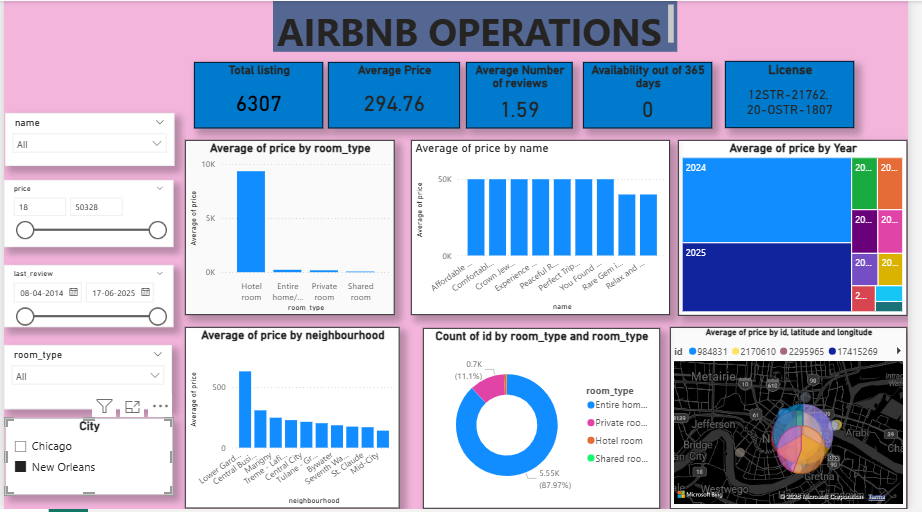

The page's visual inventory and layout, read from the dashboard file:
{"tool":"powerbi","page":{"name":"Page 1","canvas":[1280,720],"ordinal":0},"visuals":[{"type":"slicer","title":"City","fields":{"Values":["Combine table.City"]},"box":[1.4,591,238.1,109.1],"z":0},{"type":"map","fields":{"Y":["Combine table.latitude"],"X":["Combine table.longitude"],"Size":["Avg(Combine table.price)"],"Series":["Combine table.id"]},"box":[944.6,462.2,335.5,257.8],"z":1000},{"type":"slicer","fields":{"Values":["Combine table.name"]},"box":[1.4,158.7,239.5,75.1],"z":2000},{"type":"slicer","fields":{"Values":["Combine table.price"]},"box":[0,253.7,239.5,95],"z":3000},{"type":"card","title":"Total listing","fields":{"Values":["Count(Combine table.id)"]},"box":[269.3,86.4,182.9,93.6],"z":4000},{"type":"card","title":"Average Price ","fields":{"Values":["Avg(Combine table.price)"]},"box":[459.4,86.4,187.2,93.6],"z":5000},{"type":"card","title":"Average Number of reviews","fields":{"Values":["Combine table.Total_num_reviews"]},"box":[655.2,86.4,151.2,93.6],"z":6000},{"type":"clusteredColumnChart","fields":{"Category":["Combine table.neighbourhood"],"Y":["Avg(Combine table.price)"]},"box":[257,461.9,304,257],"z":7000},{"type":"donutChart","fields":{"Y":["Count(Combine table.id)"],"Category":["Combine table.room_type"],"Series":["Combine table.room_type"]},"box":[593.3,463.7,335.5,256.3],"z":8000},{"type":"slicer","fields":{"Values":["Combine table.last_review"]},"box":[0,374.2,239.5,87.9],"z":9000},{"type":"card","title":"Availability out of 365 days","fields":{"Values":["Min(Combine table.availability_365)"]},"box":[820.8,86.4,182.9,93.6],"z":10000},{"type":"slicer","fields":{"Values":["Combine table.room_type"]},"box":[0,487.6,238.1,90.7],"z":11000},{"type":"columnChart","fields":{"Category":["Combine table.room_type"],"Y":["Avg(Combine table.price)"]},"box":[256.7,196.7,296.7,248.3],"z":12000},{"type":"treemap","fields":{"Group":["Combine table.last_review.Variation.Date Hierarchy.Year","Combine table.last_review.Variation.Date Hierarchy.Quarter","Combine table.last_review.Variation.Date Hierarchy.Month","Combine table.last_review.Variation.Date Hierarchy.Day"],"Values":["Avg(Combine table.price)"]},"box":[955.3,197,324.6,249.4],"z":13000},{"type":"card","title":"License","fields":{"Values":["Min(Combine table.license)"]},"box":[1021.7,85,183.3,95],"z":14000},{"type":"textbox","box":[381.7,0,573.3,71.7],"z":16000},{"type":"columnChart","fields":{"Category":["Combine table.name"],"Y":["Avg(Combine table.price)"]},"box":[577.4,197.3,367.2,247.7],"z":16001}]}

Visuals, with their boxes in screenshot pixels (x1, y1, x2, y2), scaled from the page's 1280x720 canvas onto the 922x512 screenshot:
"City" slicer: l=1, t=420, r=173, b=498
map - Combine table.latitude x Combine table.longitude: l=680, t=329, r=921, b=511
slicer - Combine table.name: l=1, t=113, r=174, b=166
slicer - Combine table.price: l=0, t=180, r=173, b=248
"Total listing" card: l=194, t=61, r=326, b=128
"Average Price " card: l=331, t=61, r=466, b=128
"Average Number of reviews" card: l=472, t=61, r=581, b=128
clusteredColumnChart - Combine table.neighbourhood x Avg(Combine table.price): l=185, t=328, r=404, b=511
donutChart - Count(Combine table.id) x Combine table.room_type: l=427, t=330, r=669, b=511
slicer - Combine table.last_review: l=0, t=266, r=173, b=329
"Availability out of 365 days" card: l=591, t=61, r=723, b=128
slicer - Combine table.room_type: l=0, t=347, r=172, b=411
columnChart - Combine table.room_type x Avg(Combine table.price): l=185, t=140, r=399, b=316
treemap - Combine table.last_review.Variation.Date Hierarchy.Year x Combine table.last_review.Variation.Date Hierarchy.Quarter: l=688, t=140, r=921, b=317
"License" card: l=736, t=60, r=868, b=128
textbox: l=275, t=0, r=688, b=51
columnChart - Combine table.name x Avg(Combine table.price): l=416, t=140, r=680, b=316
